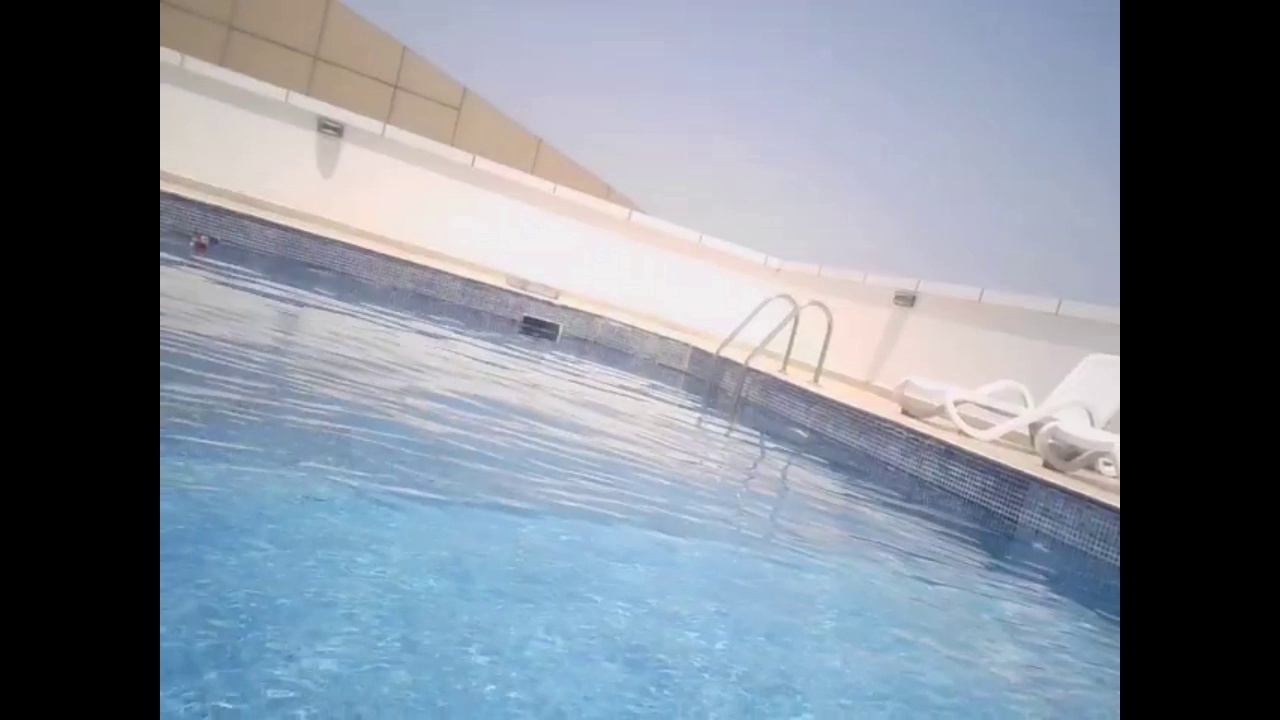debris: (190, 231, 211, 254), (206, 228, 221, 251)
